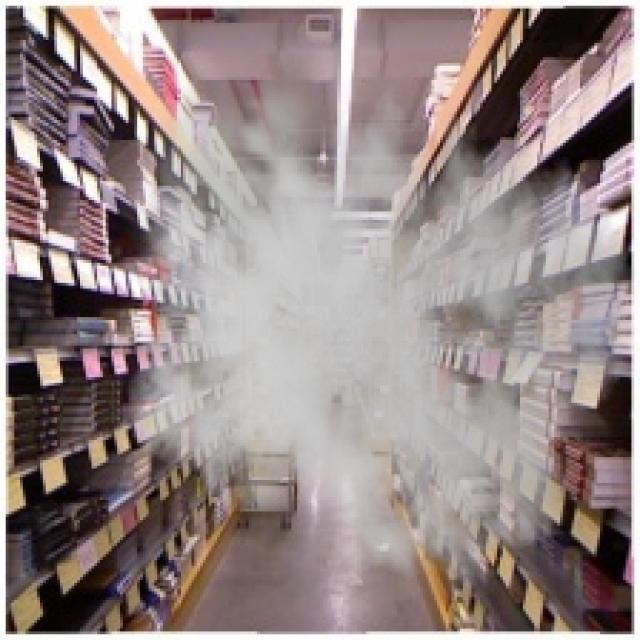Smoke: (112, 51, 638, 594)
